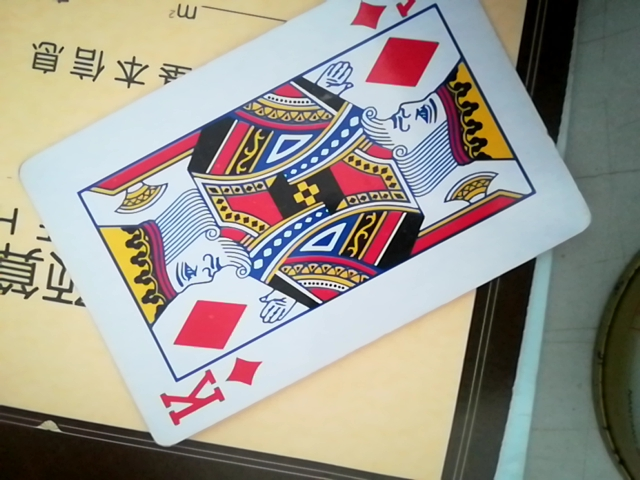fk k: (24, 3, 591, 443)
